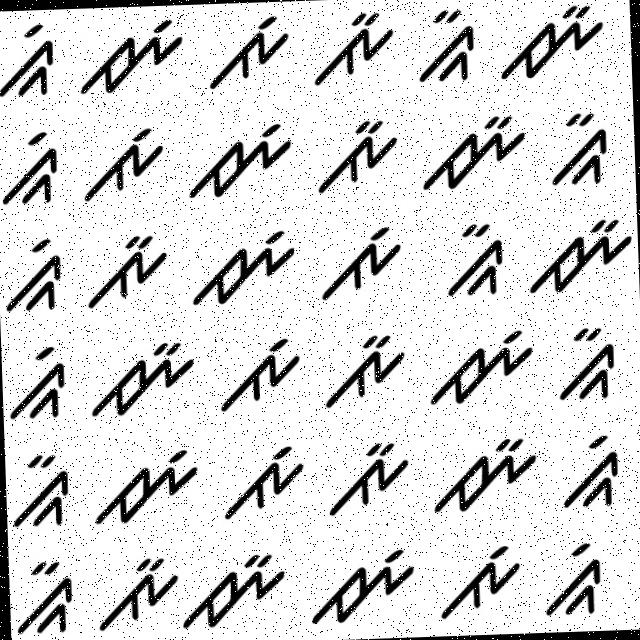an: (308, 329, 415, 415), (321, 433, 412, 521), (307, 113, 405, 194), (80, 229, 170, 314), (306, 10, 398, 92), (91, 554, 180, 632)
ang: (72, 123, 172, 208), (211, 438, 309, 524), (201, 10, 297, 93), (436, 538, 526, 622), (216, 336, 303, 422), (317, 222, 403, 307)
nggan: (433, 216, 507, 308), (550, 102, 614, 194), (411, 5, 481, 87), (8, 448, 74, 534), (555, 322, 622, 406), (13, 555, 80, 636)
nggang: (4, 339, 76, 430), (534, 538, 612, 618), (552, 432, 628, 512), (0, 20, 66, 108), (0, 130, 65, 214), (4, 232, 66, 313)
njan: (84, 333, 200, 428), (418, 111, 530, 200), (524, 215, 636, 302), (491, 3, 612, 83), (181, 551, 291, 632), (428, 434, 541, 512)
njang: (93, 436, 202, 536), (183, 113, 298, 206), (303, 538, 419, 630), (185, 224, 298, 317), (78, 10, 190, 100), (426, 326, 538, 414)
